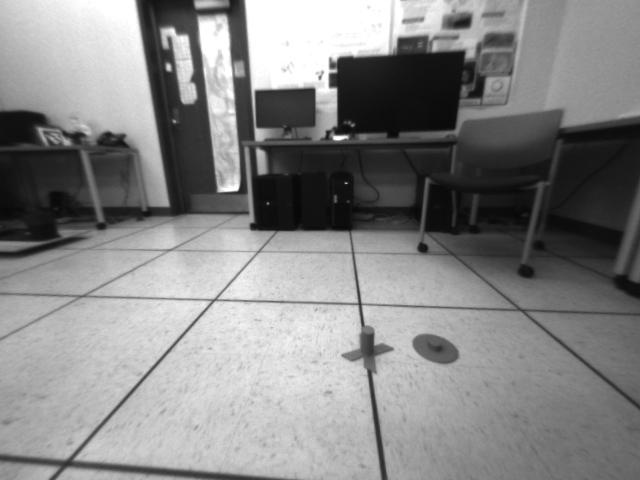X: (341, 325, 395, 375)
